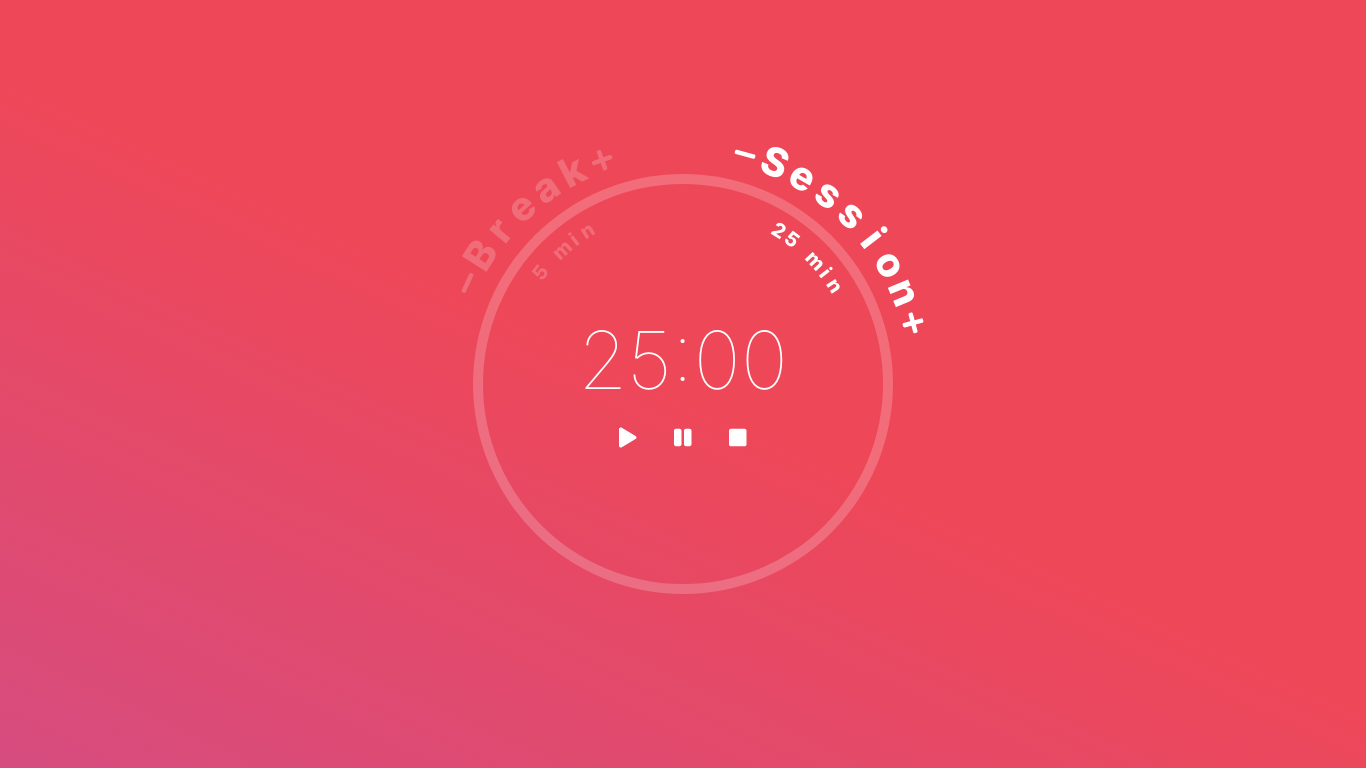
Scenario: App › Should decrement session timer
Click the 1st button with test id "decrement".
click(745, 154)  # box [720,130,769,179]
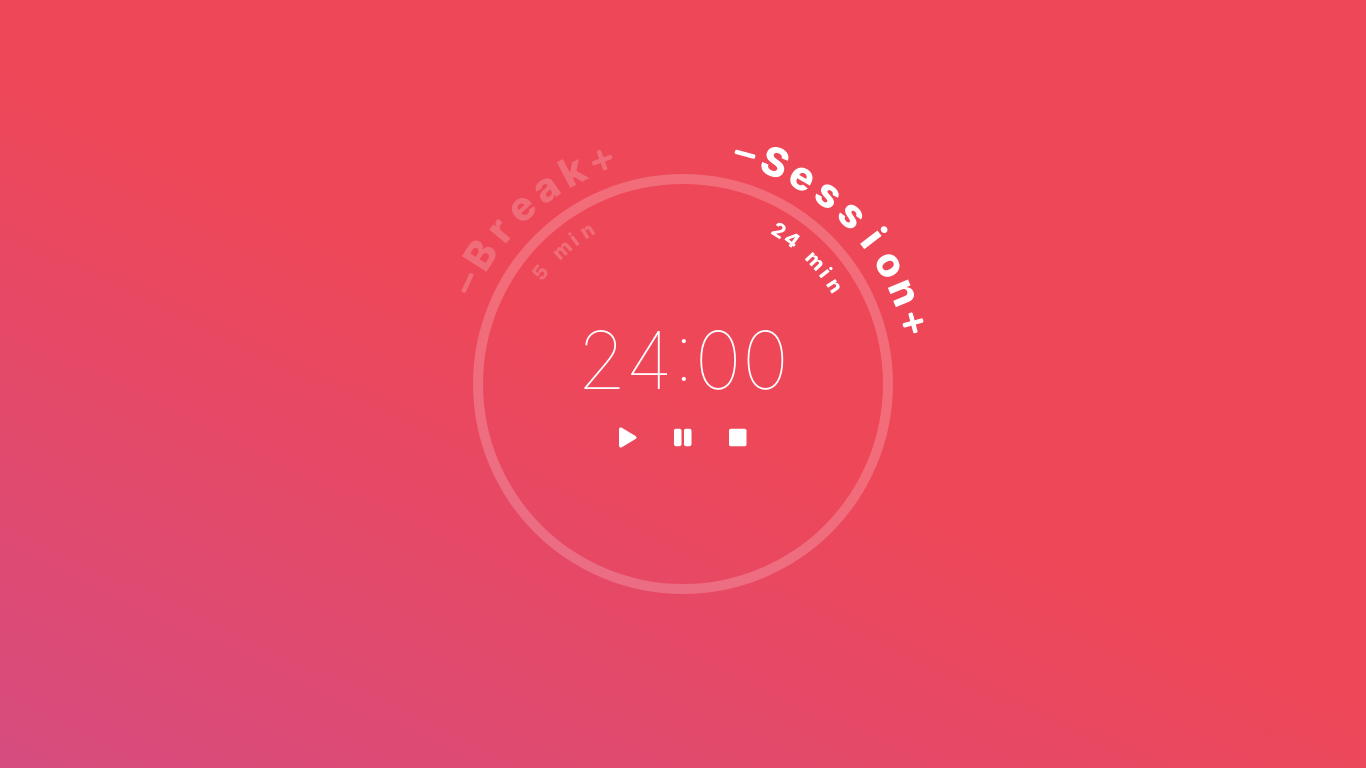
Expected: the text with test id "timer" reads "24:00", [577,310,789,408]
